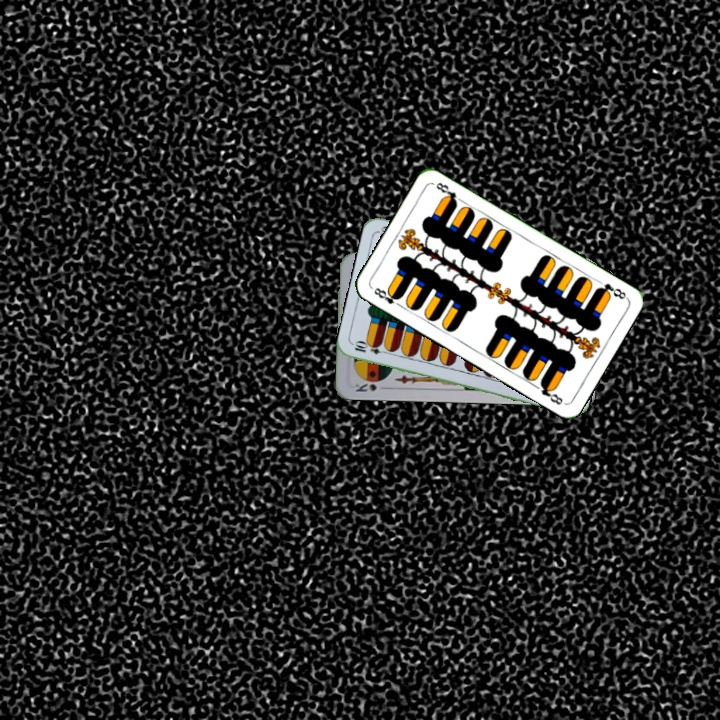E10: (351, 339, 391, 357)
E8: (370, 284, 405, 310), (592, 279, 629, 302)
SK: (351, 379, 379, 394)
